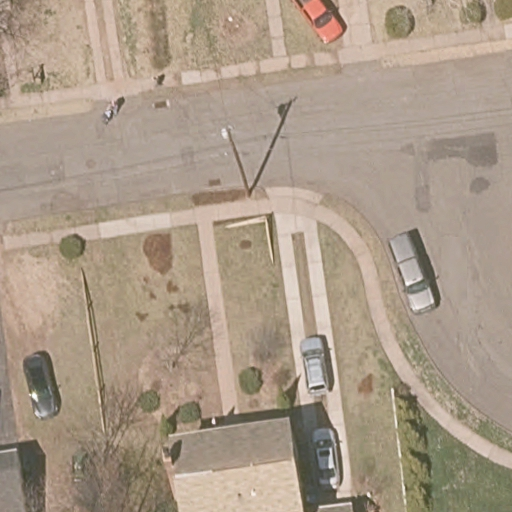DT: (221, 124, 254, 198)
